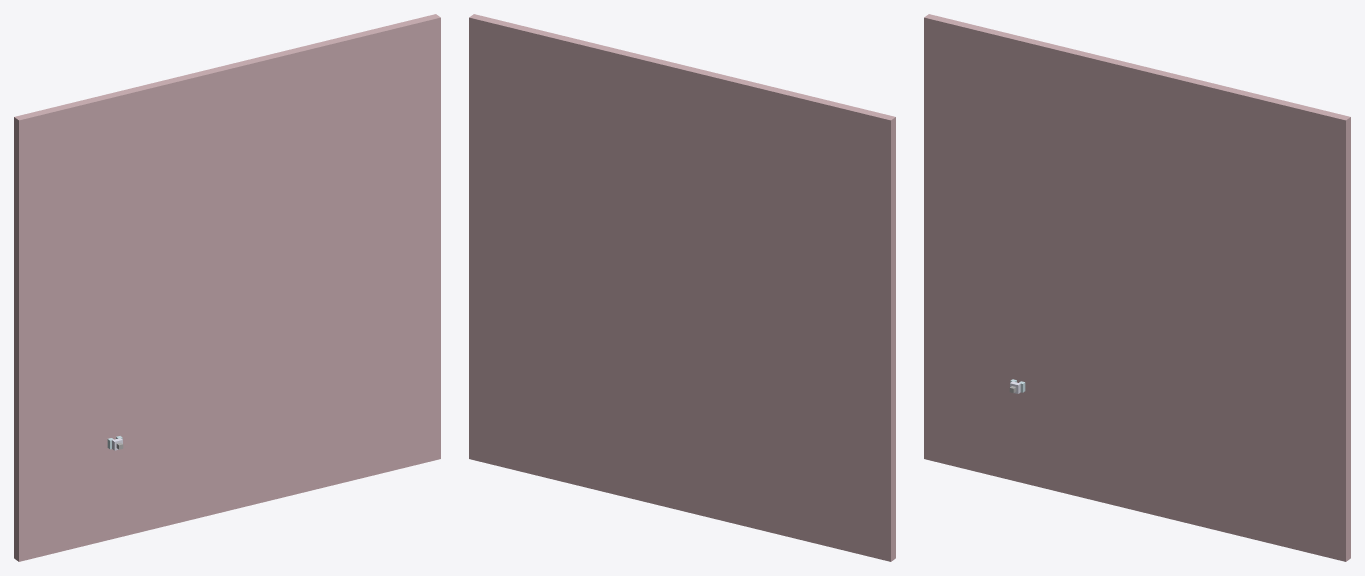
The model's file is board.glb.
The picture shows the model from 3 angles, left to right: view 1: azimuth 30°, elevation 25°; view 2: azimuth 150°, elevation 25°; view 3: azimuth 330°, elevation 25°; orthographic projection.
Visible parts, largest first — view 1: Substrate_Layer_0; view 2: Substrate_Layer_0; view 3: Substrate_Layer_0.
Boxes of the visible parts, <box> form: Substrate_Layer_0: <box>14,14,440,561</box>; Substrate_Layer_0: <box>469,14,895,561</box>; Substrate_Layer_0: <box>924,14,1350,561</box>.
Bounding box in the file's own units: 0.01 × 0.01 × 0.0005.
